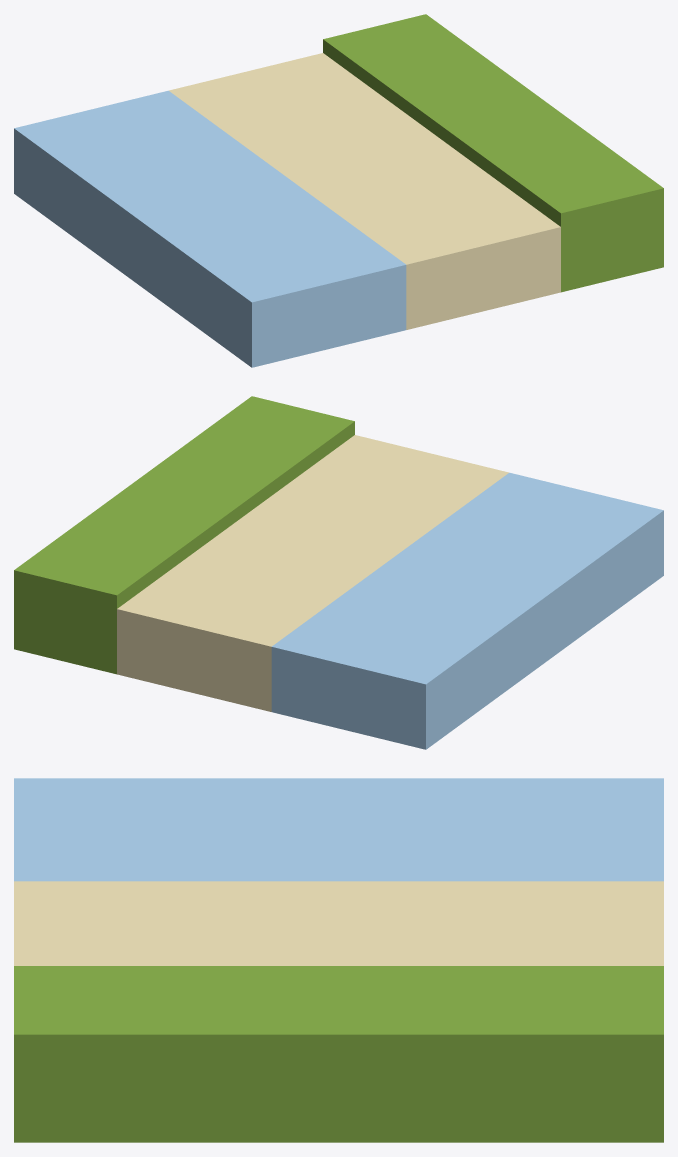
File: tile132.fbx
3 views of the same model, one above another, from view 1: azimuth 30°, elevation 25°; view 2: azimuth 150°, elevation 25°; view 3: azimuth 270°, elevation 25° (orthographic). The views are drawn at different scales.
Parts seen in each view (by area): view 1: tile132; view 2: tile132; view 3: tile132.
Boxes of the visible parts, x1=… form: tile132: x1=14, y1=14, x2=663, y2=367; tile132: x1=14, y1=396, x2=663, y2=749; tile132: x1=14, y1=778, x2=663, y2=1142.
Size of the model in its own units: 10 by 1.83 by 10.
